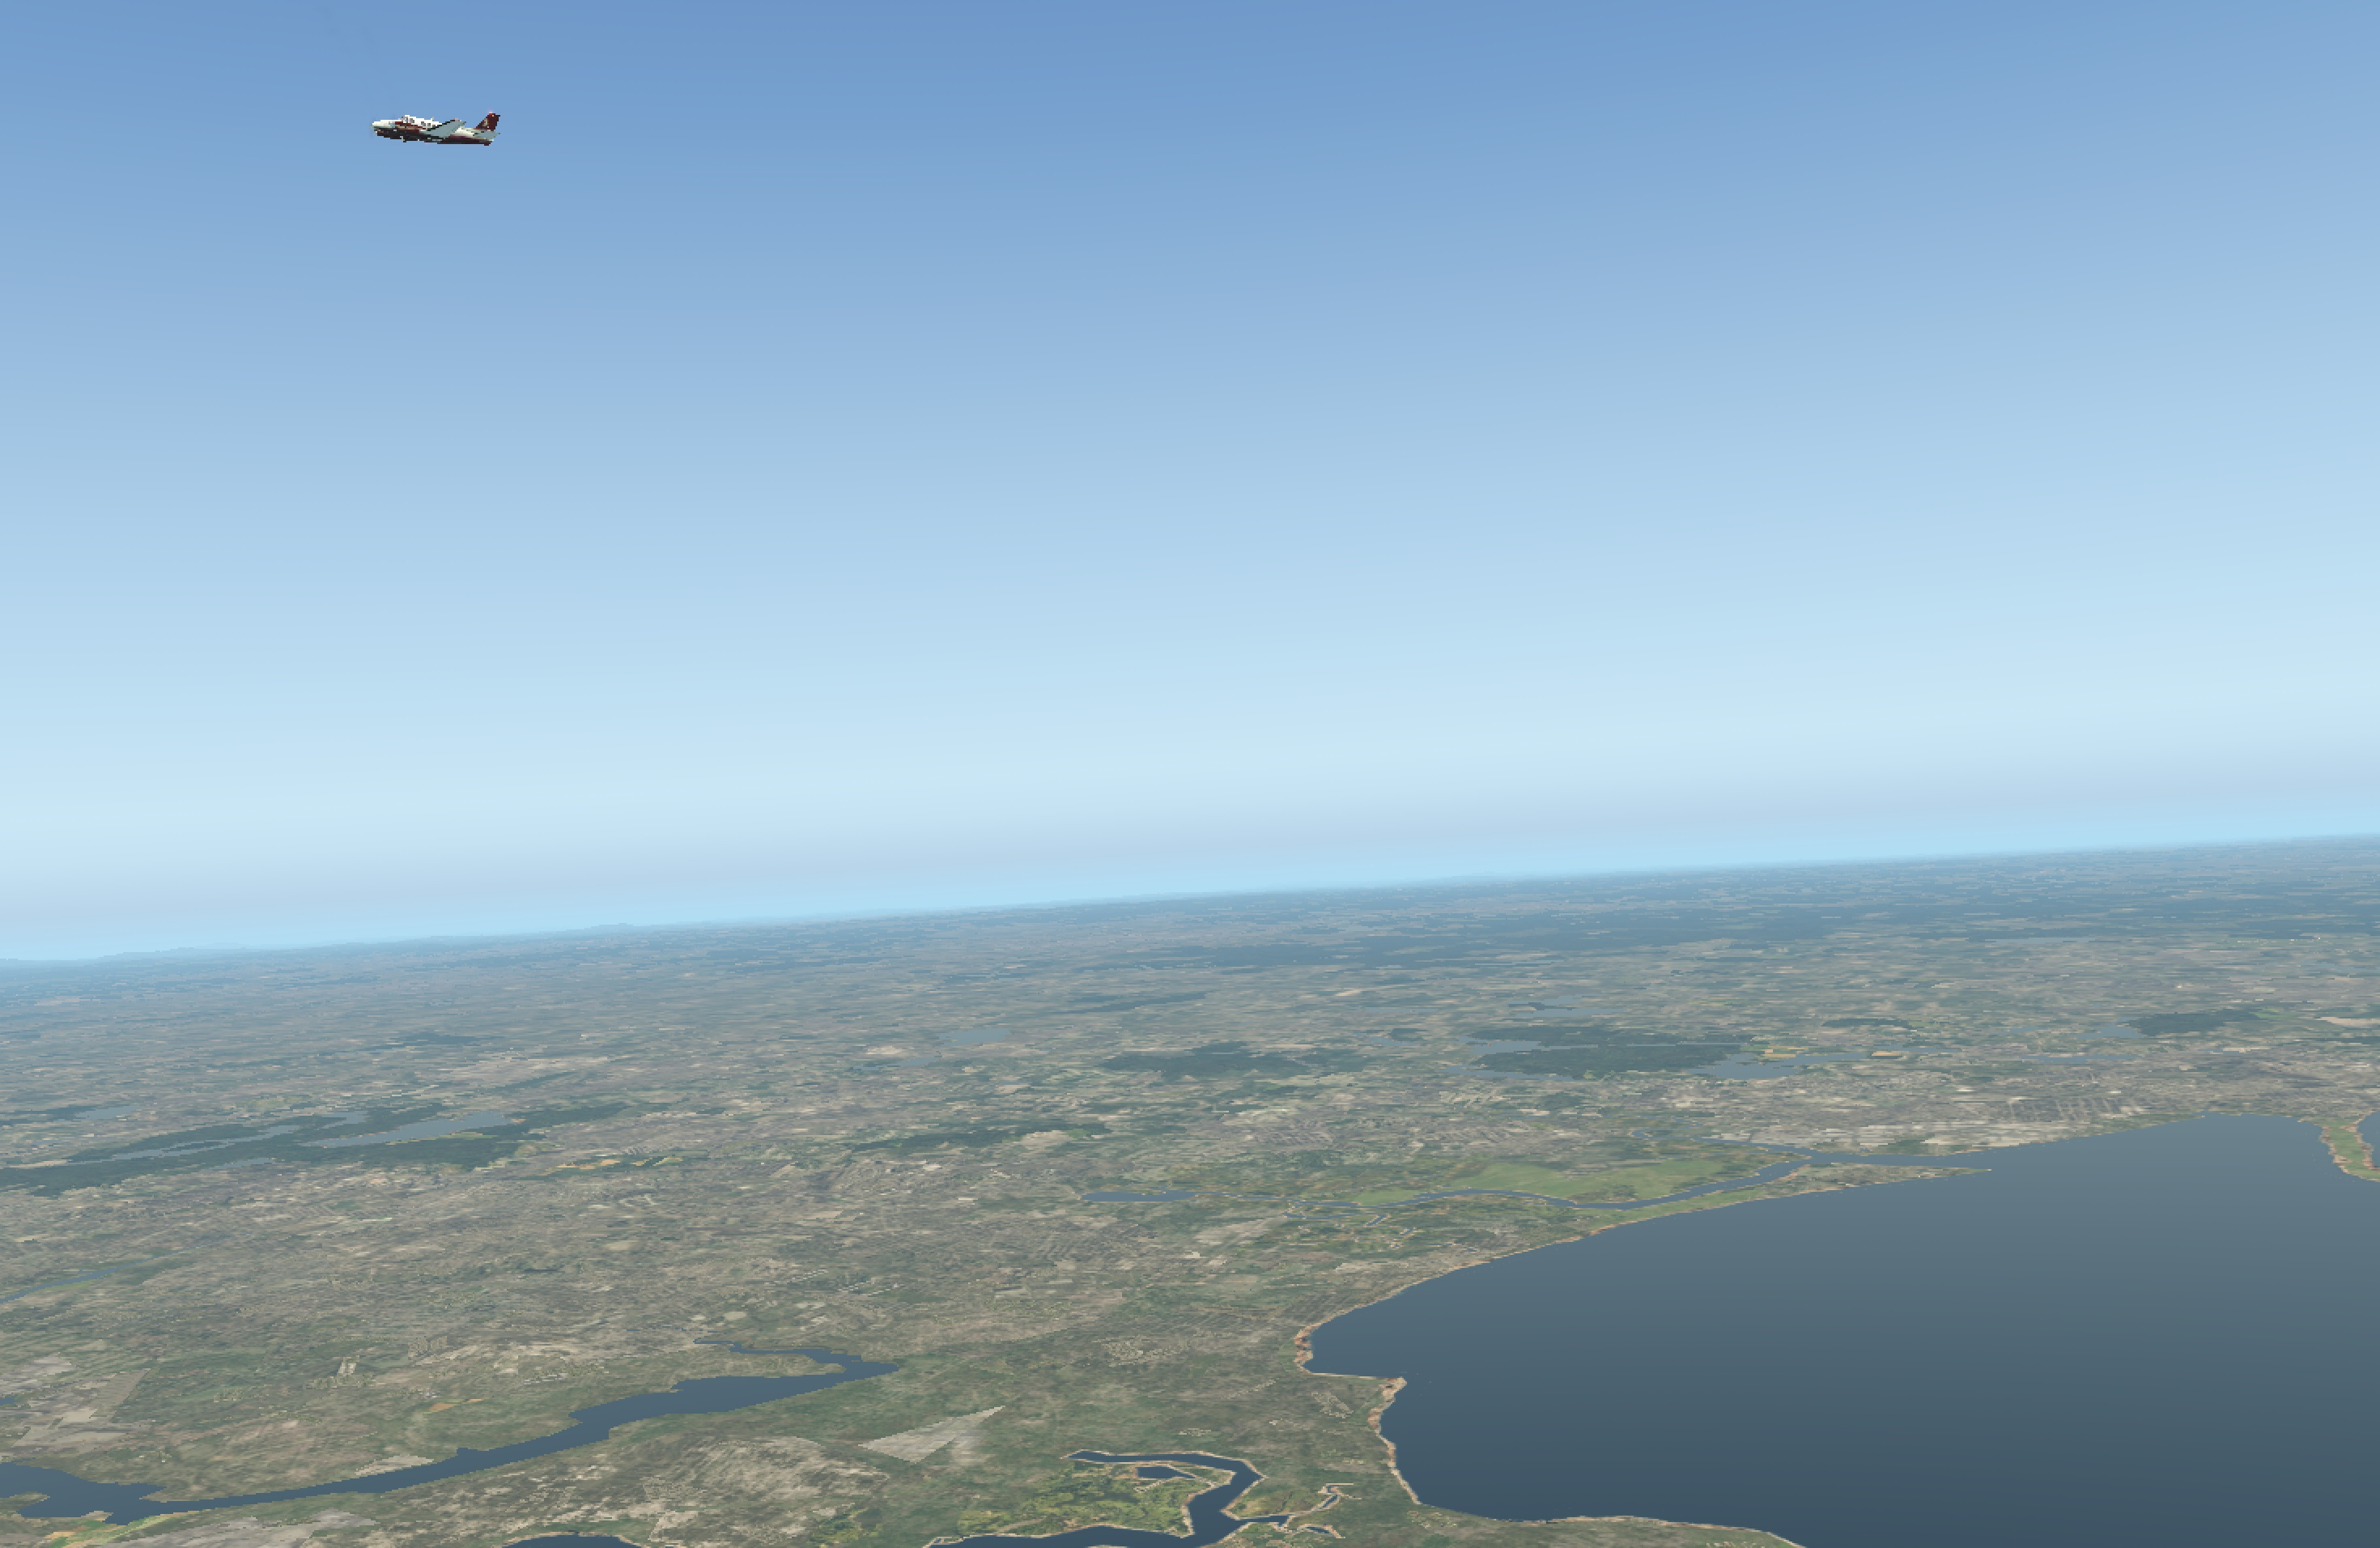aircraft: (328, 106, 498, 170)
